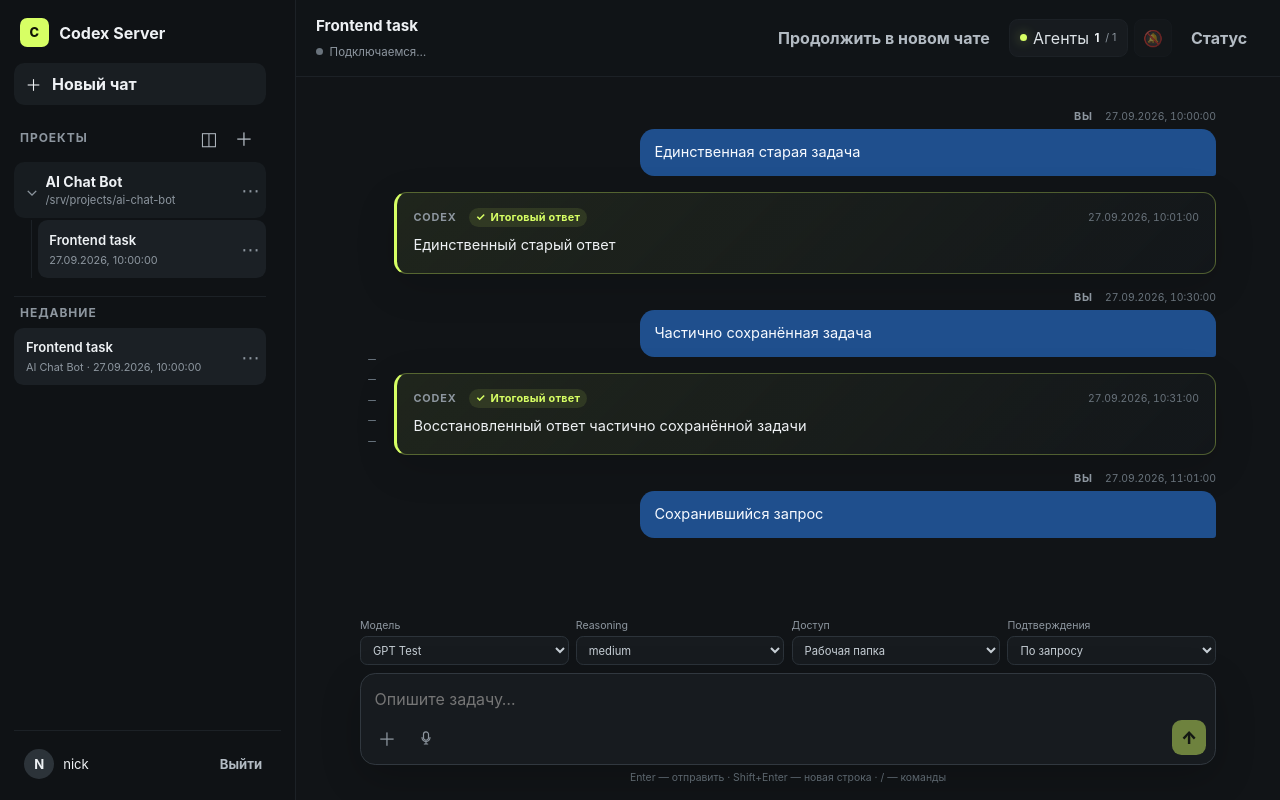
Test: App › targets the matching repeated prompt occurrence within one restored turn
Click the button named "Перейти к задаче 2: продолжай" at (372,380), box top-left (360, 371), bottom-right (384, 388)
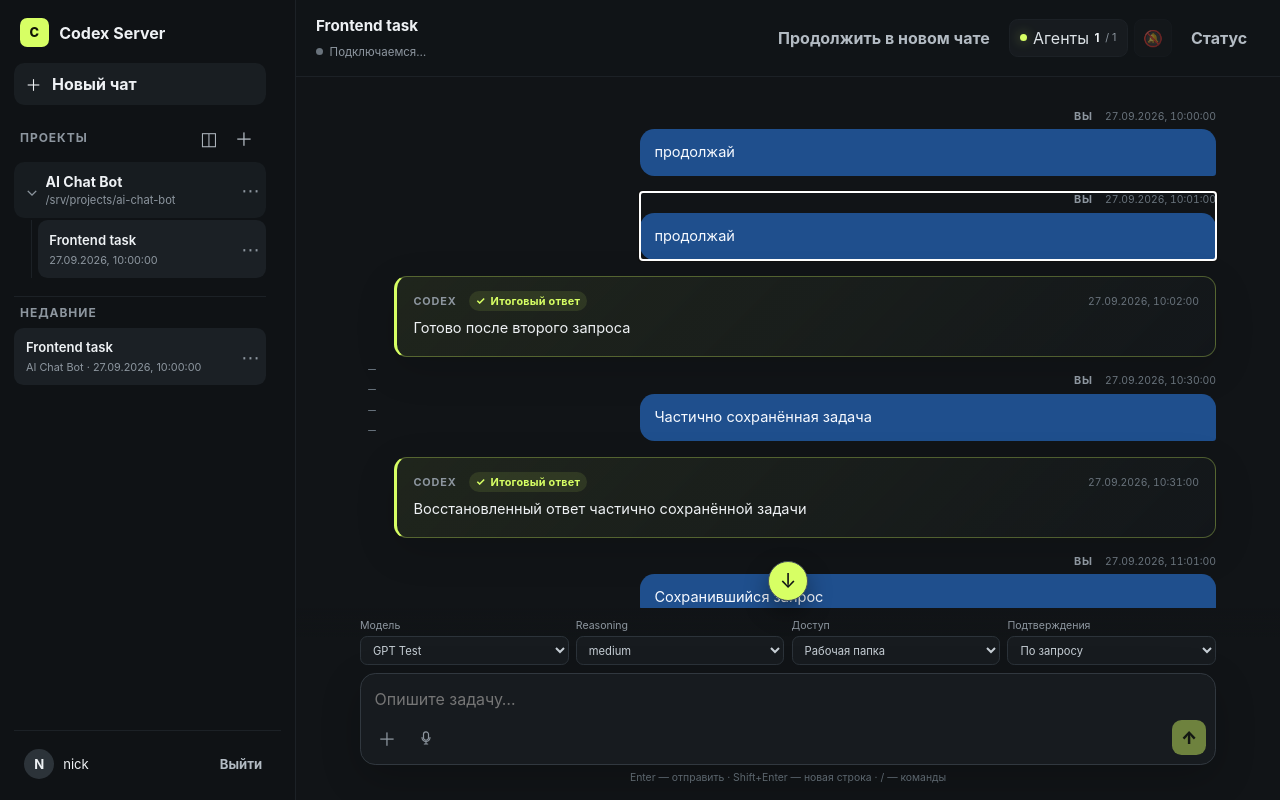
Check: the text "Готово после второго запроса" is shown, box top-left (413, 319), bottom-right (630, 337)
